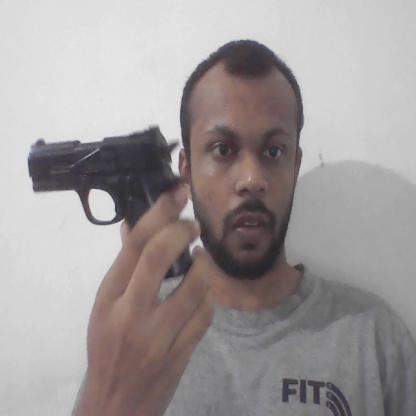handgun: (27, 123, 194, 280)
